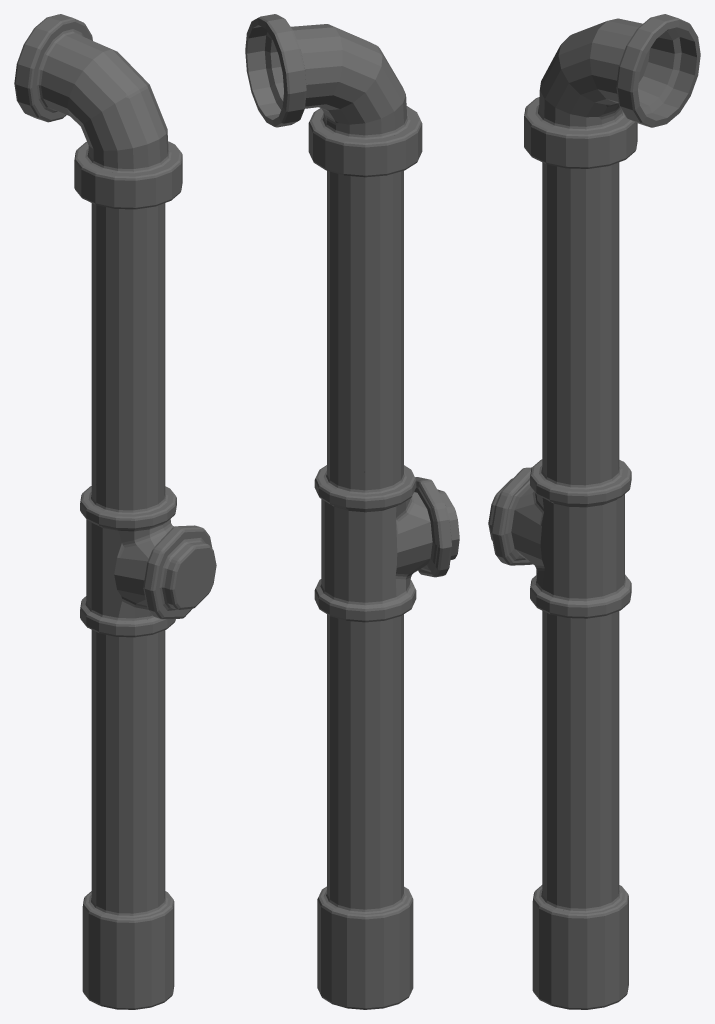
Rendered from Pipe Weapon.fbx.
3 renders of one model, left to right at view 1: azimuth 90°, elevation 25°; view 2: azimuth 150°, elevation 25°; view 3: azimuth 270°, elevation 25°, orthographic. The views are drawn at different scales.
Visible parts, largest first — view 1: Cylinder.001; view 2: Cylinder.001; view 3: Cylinder.001.
Part boxes in pixels (<box>): Cylinder.001: <box>14,14,216,1009</box>; Cylinder.001: <box>245,14,459,1009</box>; Cylinder.001: <box>488,14,700,1009</box>.
Size of the model in its own units: 51.77 by 290 by 56.01.
Materials: 1 (1 with a texture image).
